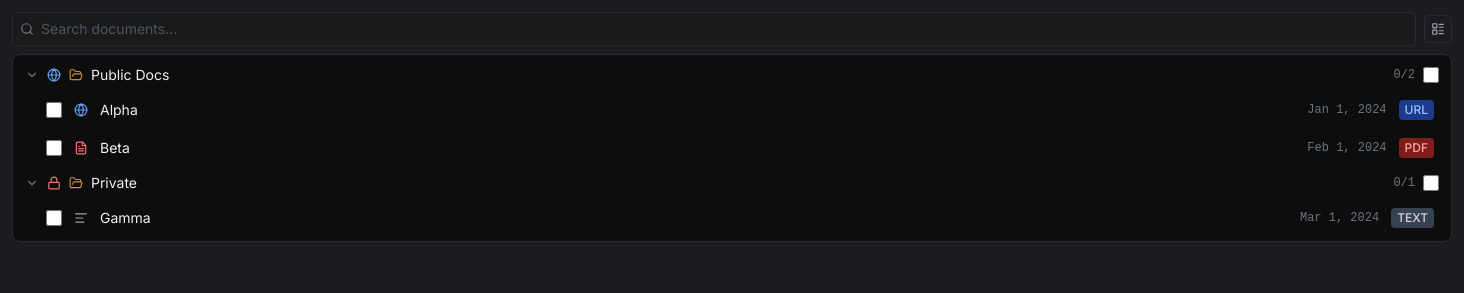
it: SourceSelector › selection › shows selected count badge when documents selected
Click the checkbox named "Select Alpha": (54, 110) left=46, top=102, right=62, bottom=118
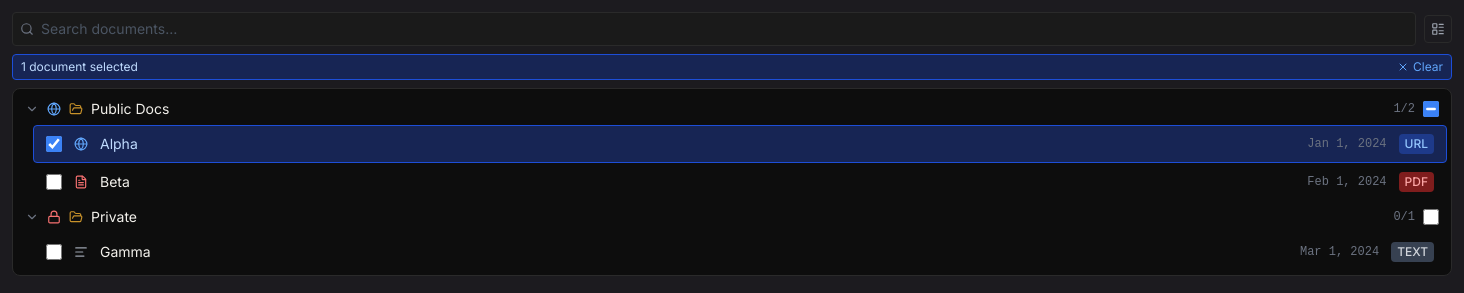
Check: the text "1 document selected" is shown, box left=21, top=59, right=138, bottom=75
